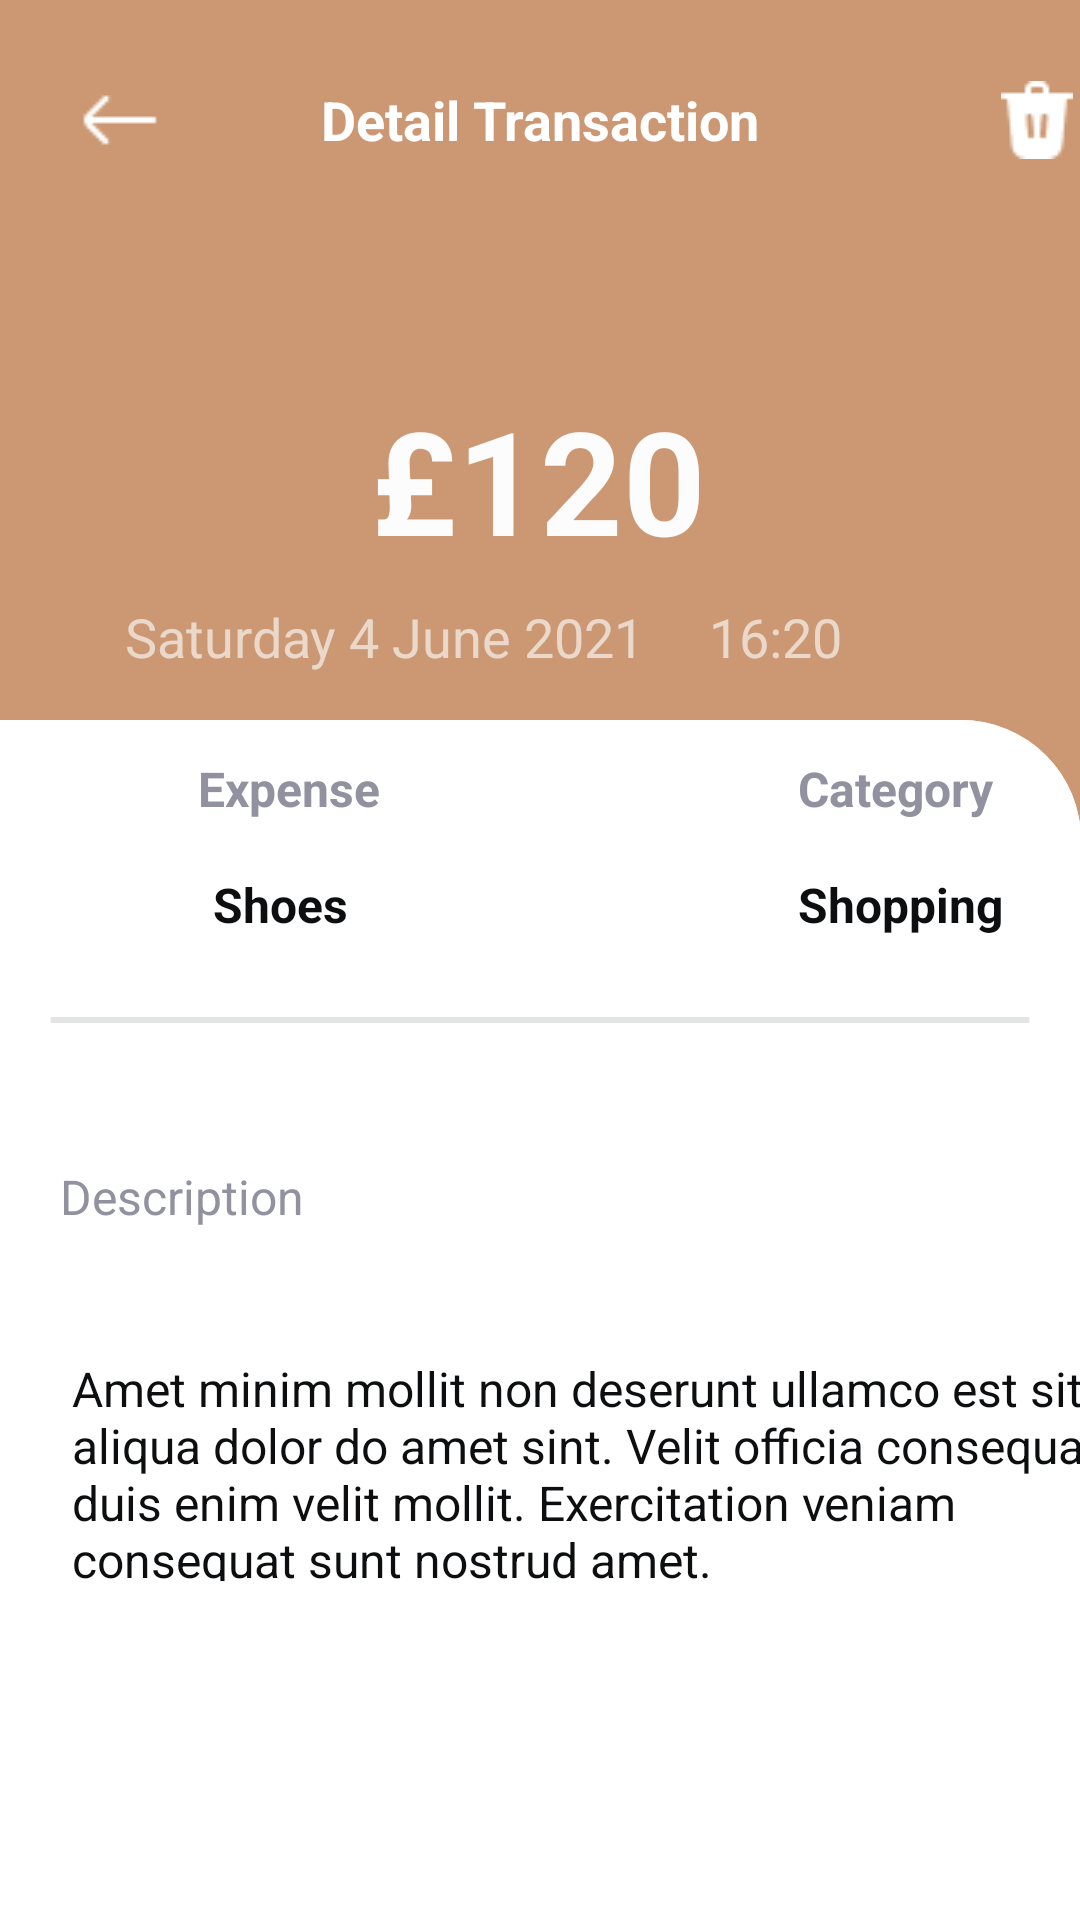

Icons on this 1080x1920 Android screen, each with its box as bbox(x1, y1, x2, y2):
arrow: bbox(83, 95, 157, 145)
trash: bbox(1001, 81, 1073, 159)
